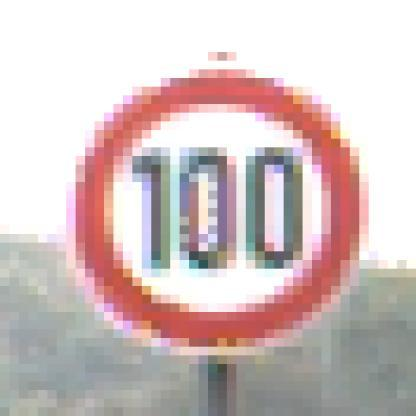Speed Limit -100-: (78, 51, 390, 374)
